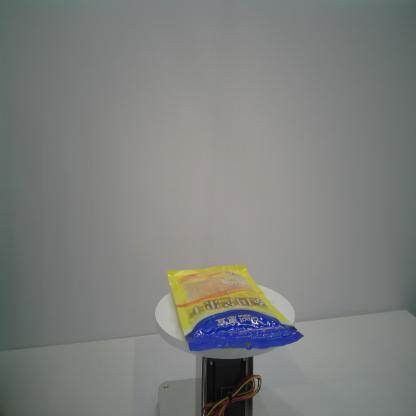Dried Fruit: (167, 264, 305, 352)
